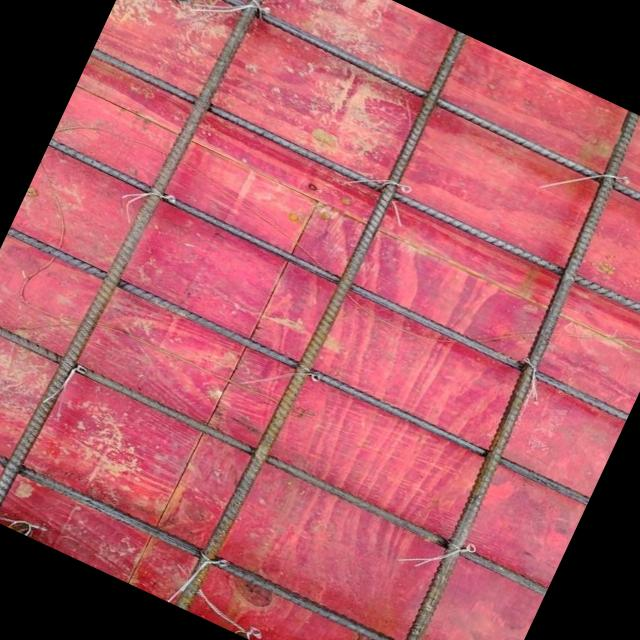ribbed bar: (172, 24, 472, 617), (45, 138, 630, 422), (6, 226, 590, 506), (0, 312, 549, 597), (89, 47, 640, 328), (0, 0, 288, 531), (353, 108, 640, 640), (131, 0, 640, 237), (0, 417, 500, 640)
